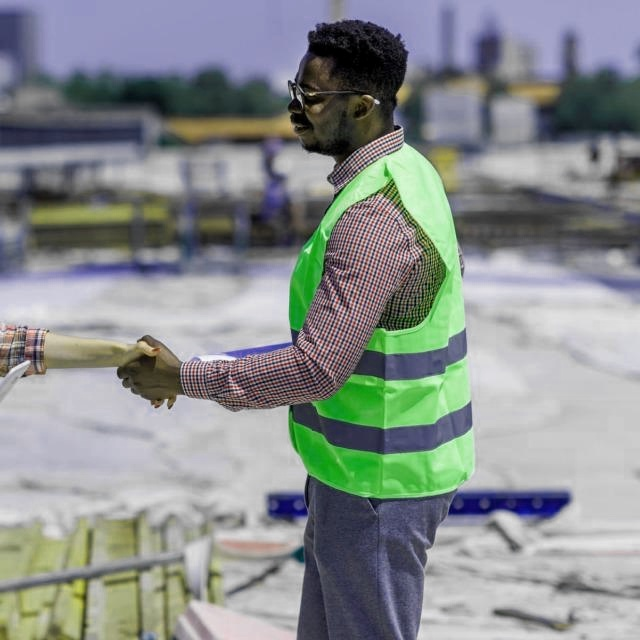Con_Chaleco: (286, 160, 477, 495)
Sin_Casco_Mascarrilla: (285, 21, 407, 154)
